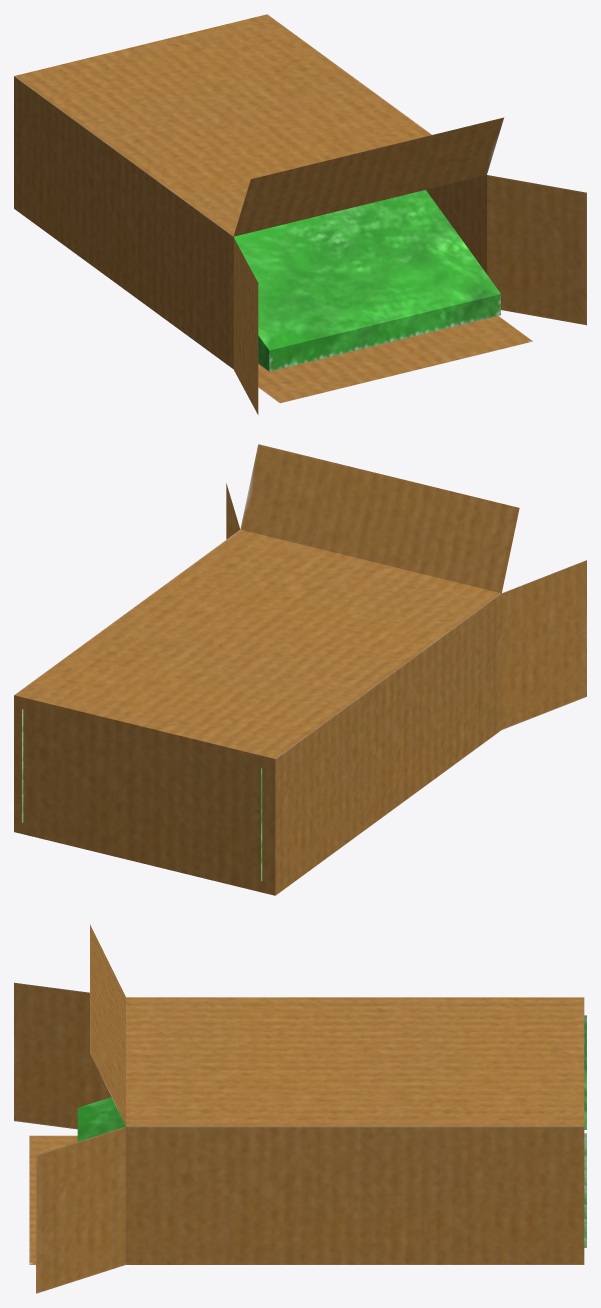
The model's file is cucal polvo 1.FBX.
3 renders of one model, top to bottom at view 1: azimuth 30°, elevation 25°; view 2: azimuth 150°, elevation 25°; view 3: azimuth 270°, elevation 25°, orthographic. The views are drawn at different scales.
Visible parts, largest first — view 1: Box001, Line001; view 2: Box001; view 3: Box001, Line001.
Boxes of the visible parts, x1,y1,x2,y2 form: Box001: (14,14,586,414); Line001: (234,190,500,371); Box001: (14,444,586,895); Box001: (14,924,584,1293); Line001: (77,1015,586,1247).
Size of the model in its own units: 134 by 76.45 by 188.
1 material, 1 textured.
